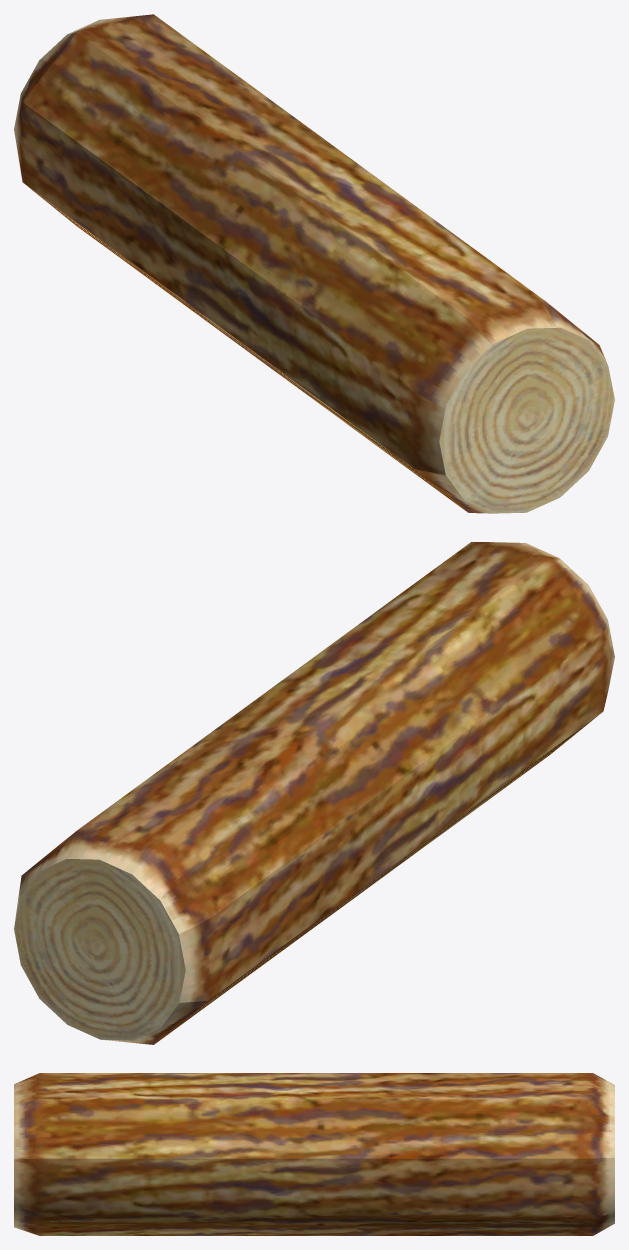
Rendered from riccolog.dae.
The picture shows the model from 3 angles, top to bottom: view 1: azimuth 30°, elevation 25°; view 2: azimuth 150°, elevation 25°; view 3: azimuth 270°, elevation 25°; orthographic projection. The views are drawn at different scales.
Visible parts, largest first — view 1: n0b0; view 2: n0b0; view 3: n0b0.
Part boxes in pixels (x1,y1,x2,y2): n0b0: [14, 14, 614, 513]; n0b0: [14, 542, 614, 1044]; n0b0: [14, 1073, 614, 1235].
Size of the model in its own units: 201 by 201 by 800.
1 material, 1 textured.
